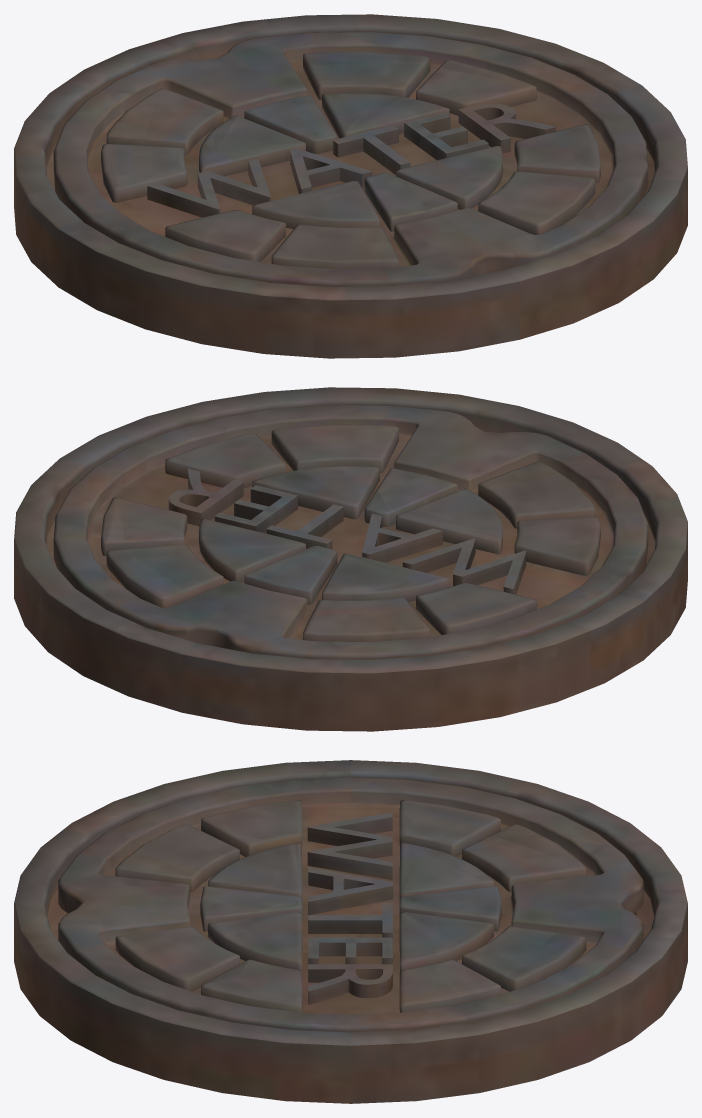
Rendered from manhole-cover.bf3eccd4.glb.
3 renders of one model, top to bottom at view 1: azimuth 30°, elevation 25°; view 2: azimuth 150°, elevation 25°; view 3: azimuth 270°, elevation 25°, orthographic.
Parts seen in each view (by area): view 1: model; view 2: model; view 3: model.
Part boxes in pixels (bbox=[...]): model: bbox=[14, 14, 687, 358]; model: bbox=[14, 387, 687, 731]; model: bbox=[14, 760, 687, 1103].
Bounding box in the file's own units: 0.6908 × 0.0676 × 0.6908.
Materials: 1 (1 with a texture image).
